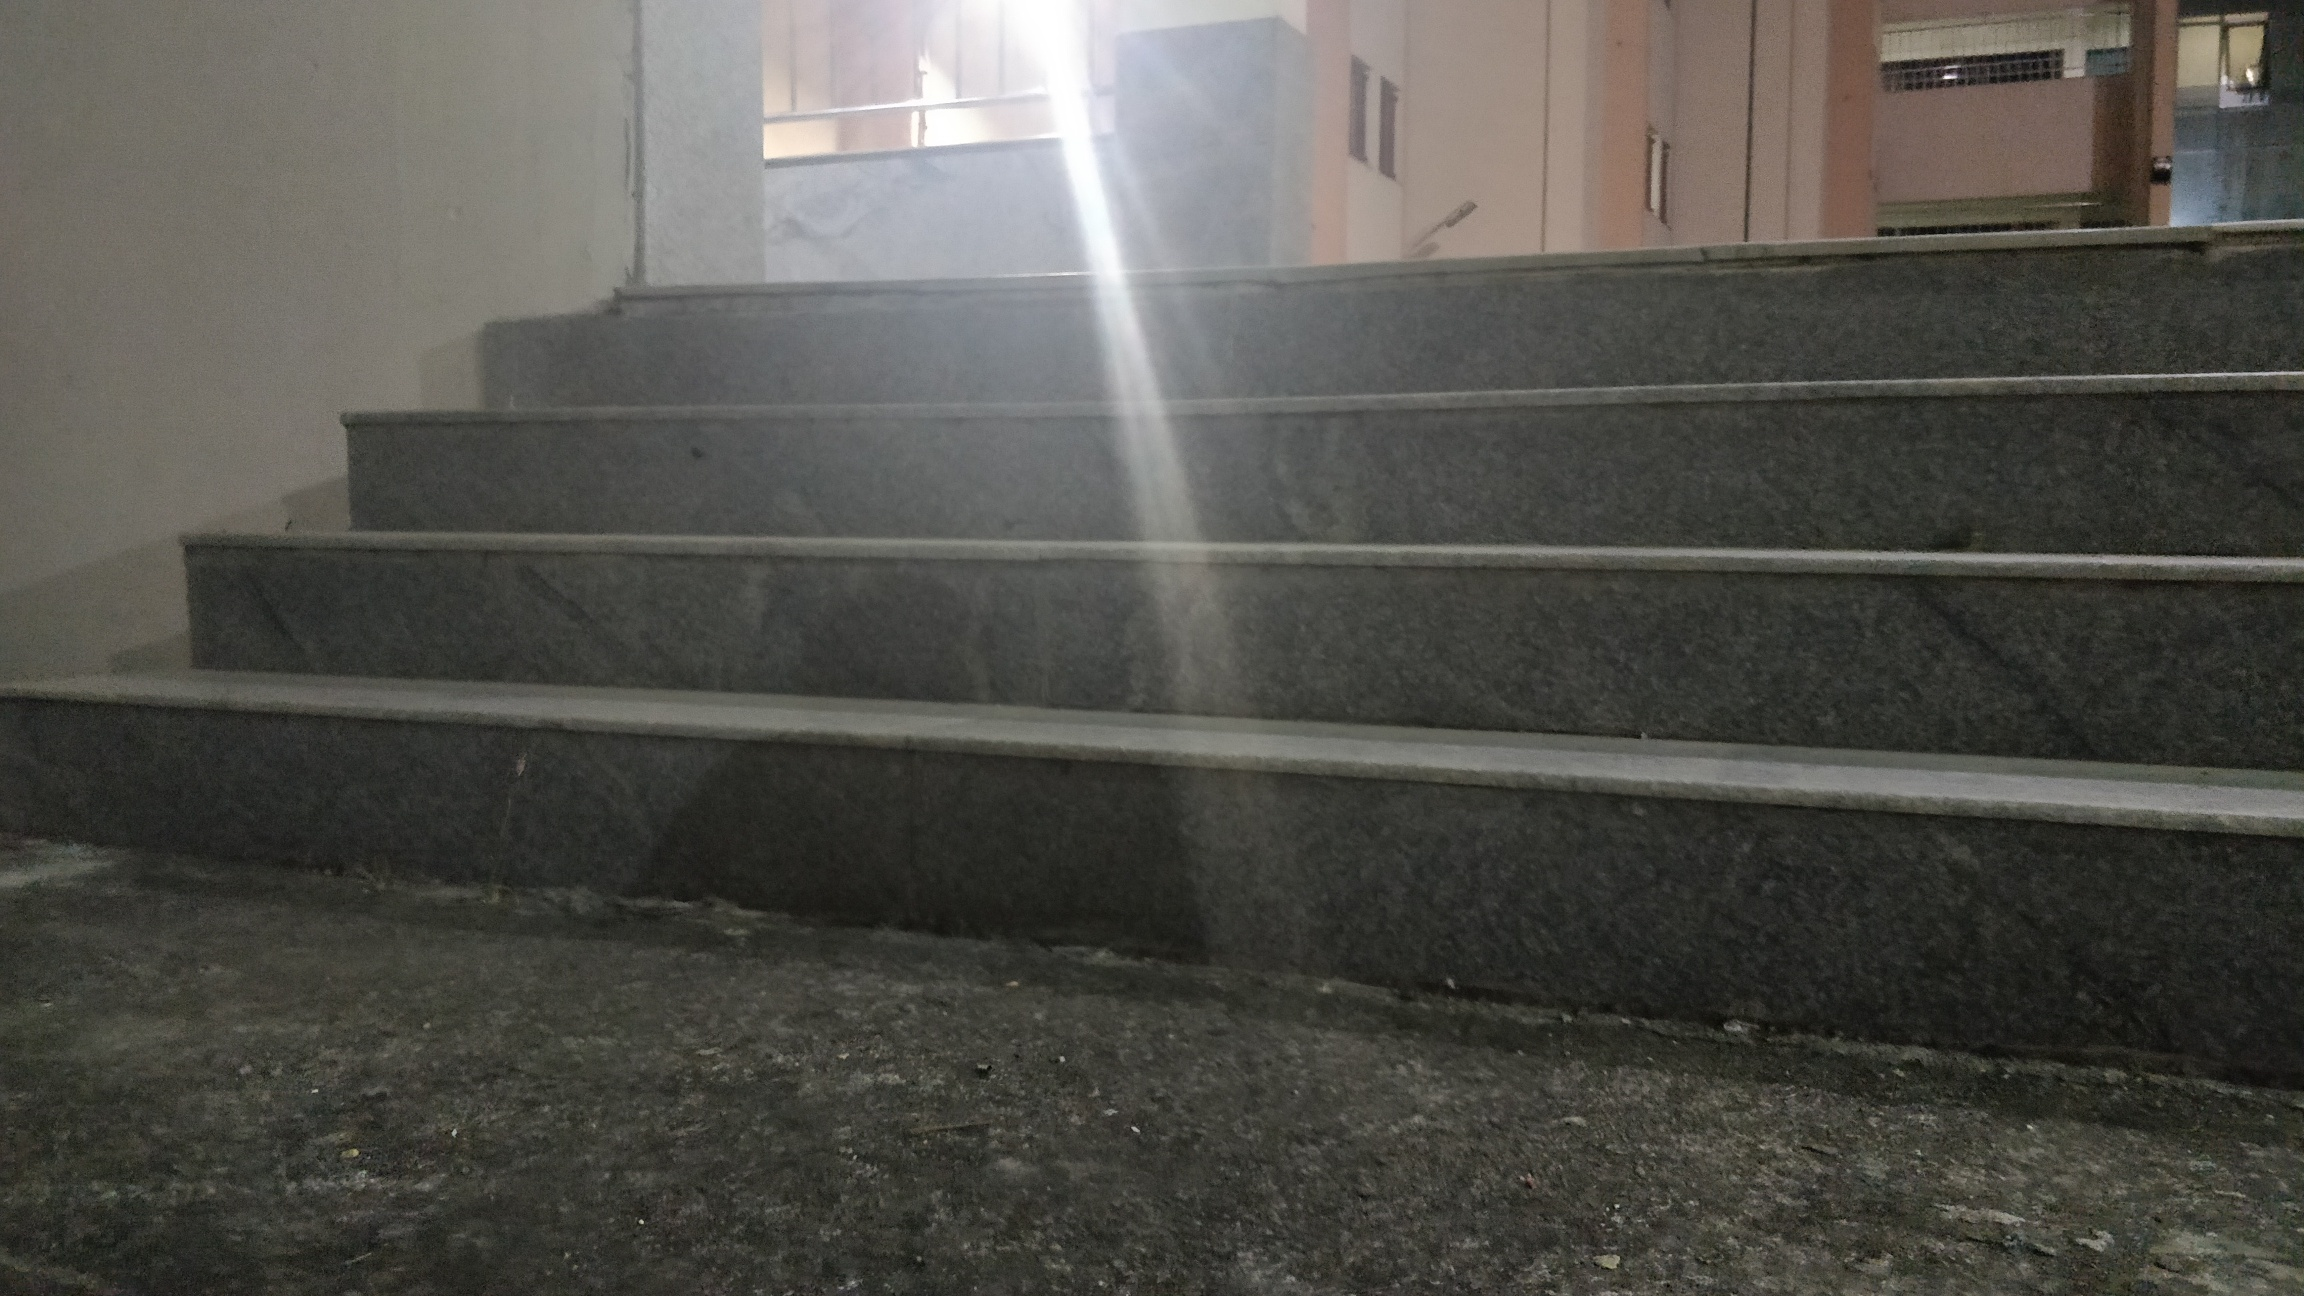stairs_up: (52, 226, 2287, 924)
